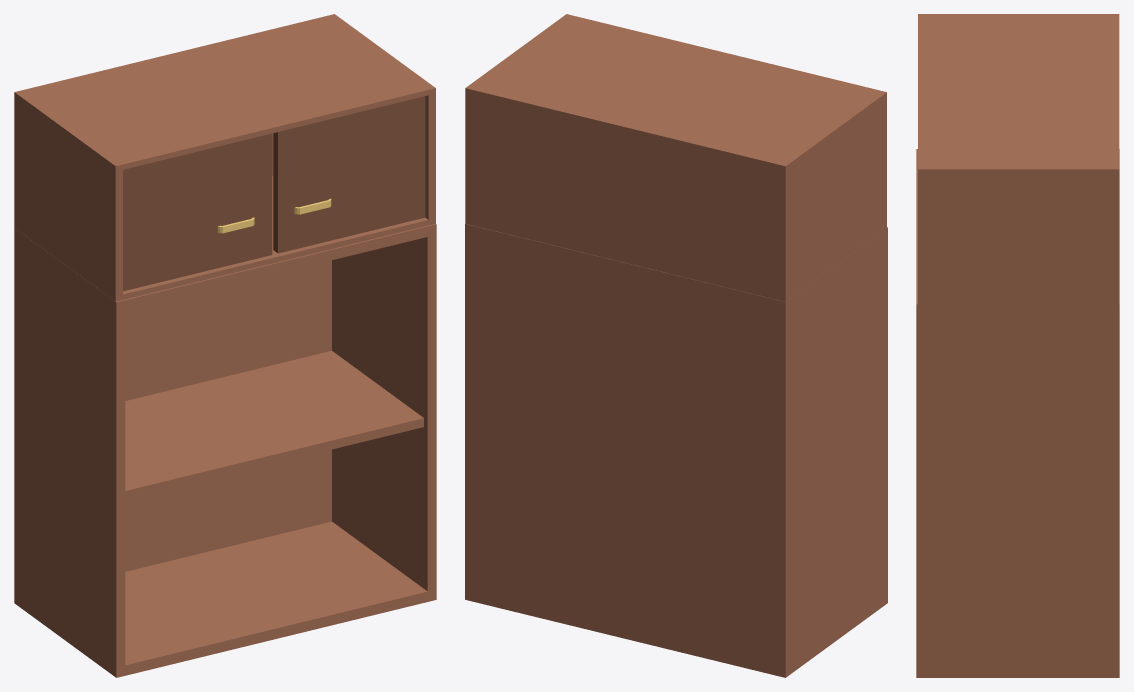
The model's file is шкаф2_3.fbx.
3 renders of one model, left to right at view 1: azimuth 30°, elevation 25°; view 2: azimuth 150°, elevation 25°; view 3: azimuth 270°, elevation 25°, orthographic.
Visible parts, largest first — view 1: Cube.010; view 2: Cube.010; view 3: Cube.010.
Boxes of the visible parts, bbox=[...] form: Cube.010: bbox=[14, 14, 436, 677]; Cube.010: bbox=[465, 14, 887, 677]; Cube.010: bbox=[916, 14, 1119, 677].
Bounding box in the file's own units: 631 × 962 × 348.
